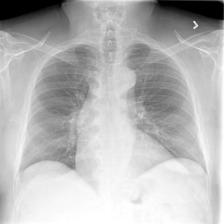normal: (15, 36, 213, 188)
